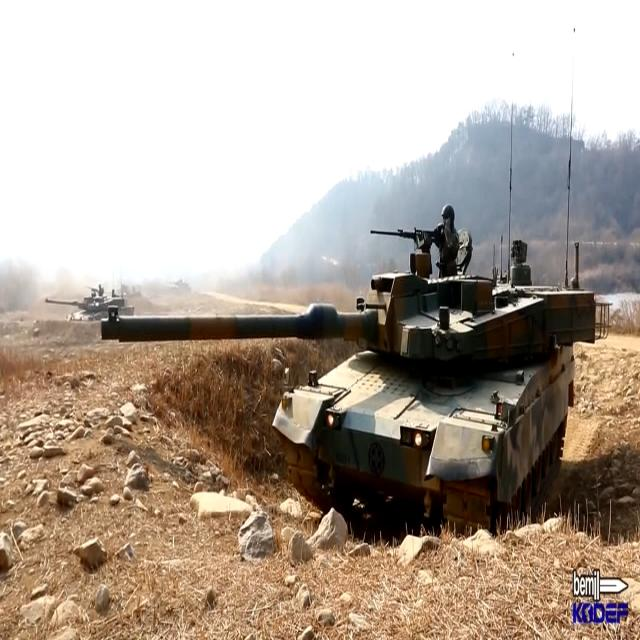korea tank: (100, 203, 614, 540)
